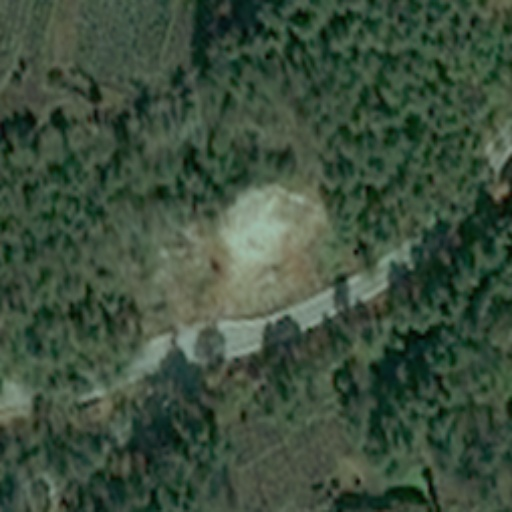landslide: (211, 186, 322, 308)
